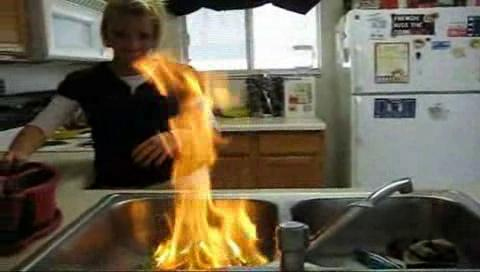fire: (140, 50, 257, 272)
